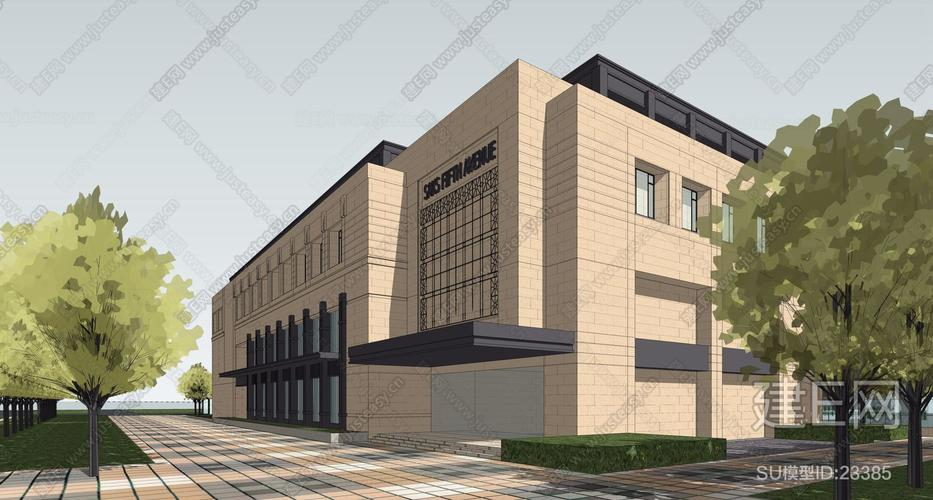buildings: (176, 82, 721, 384)
